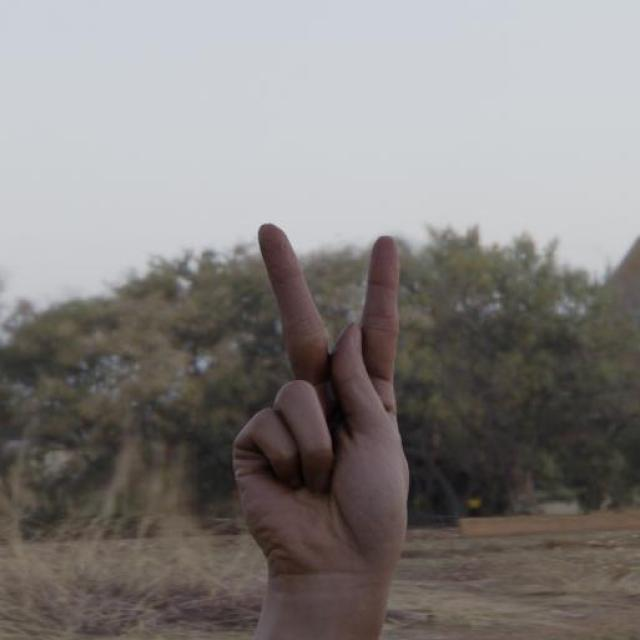K: (159, 192, 464, 580)
